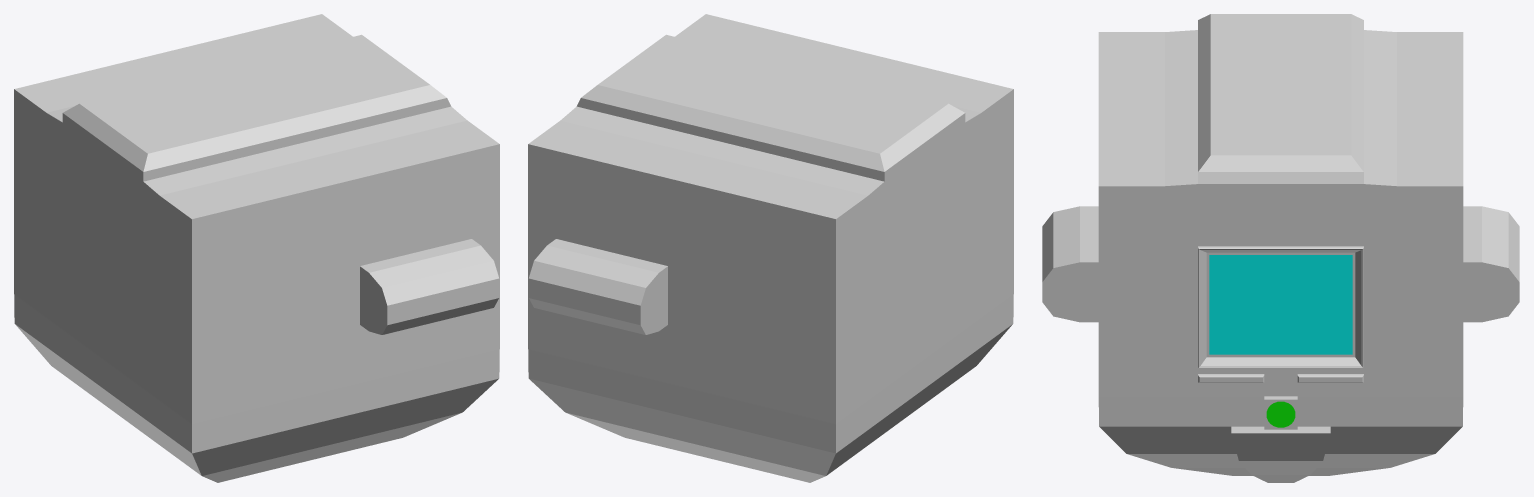
File: Drone.fbx
The picture shows the model from 3 angles, left to right: view 1: azimuth 30°, elevation 25°; view 2: azimuth 150°, elevation 25°; view 3: azimuth 270°, elevation 25°; orthographic projection. The views are drawn at different scales.
Visible parts, largest first — view 1: Cube; view 2: Cube; view 3: Cube.
Boxes of the visible parts, x1,y1,x2,y2 form: Cube: [14, 14, 499, 482]; Cube: [528, 14, 1013, 482]; Cube: [1042, 14, 1519, 482].
Bounding box in the file's own units: 209 × 214 × 262.
